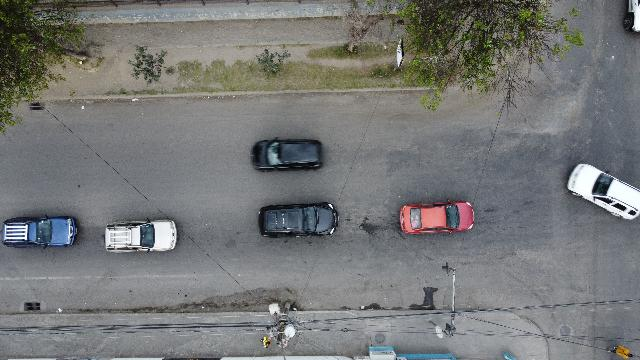Vehiculo: (567, 164, 639, 221), (259, 202, 339, 238), (400, 200, 474, 234), (251, 137, 323, 171), (105, 219, 177, 253), (2, 215, 76, 248), (623, 1, 639, 34)
